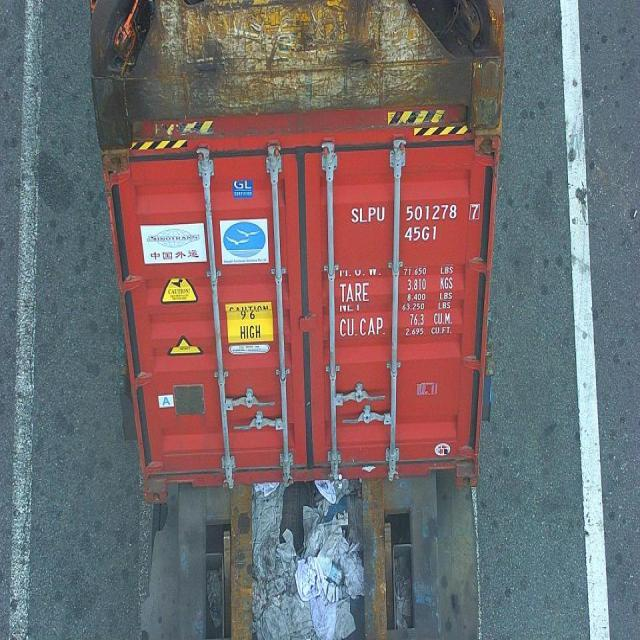ISO: (402, 224, 439, 244)
container_number: (349, 201, 482, 223)
